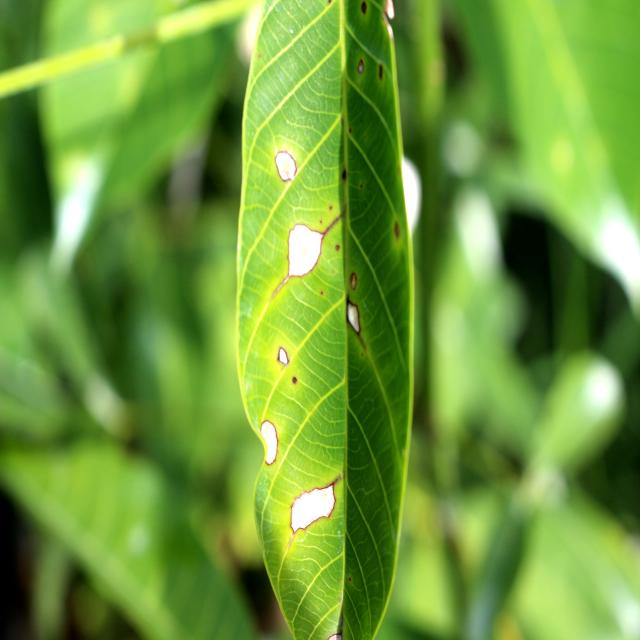Colletotrichum: (260, 419, 278, 466), (275, 150, 298, 182), (346, 298, 361, 334), (278, 346, 289, 366), (350, 272, 357, 290), (358, 58, 364, 74), (293, 376, 297, 384)
